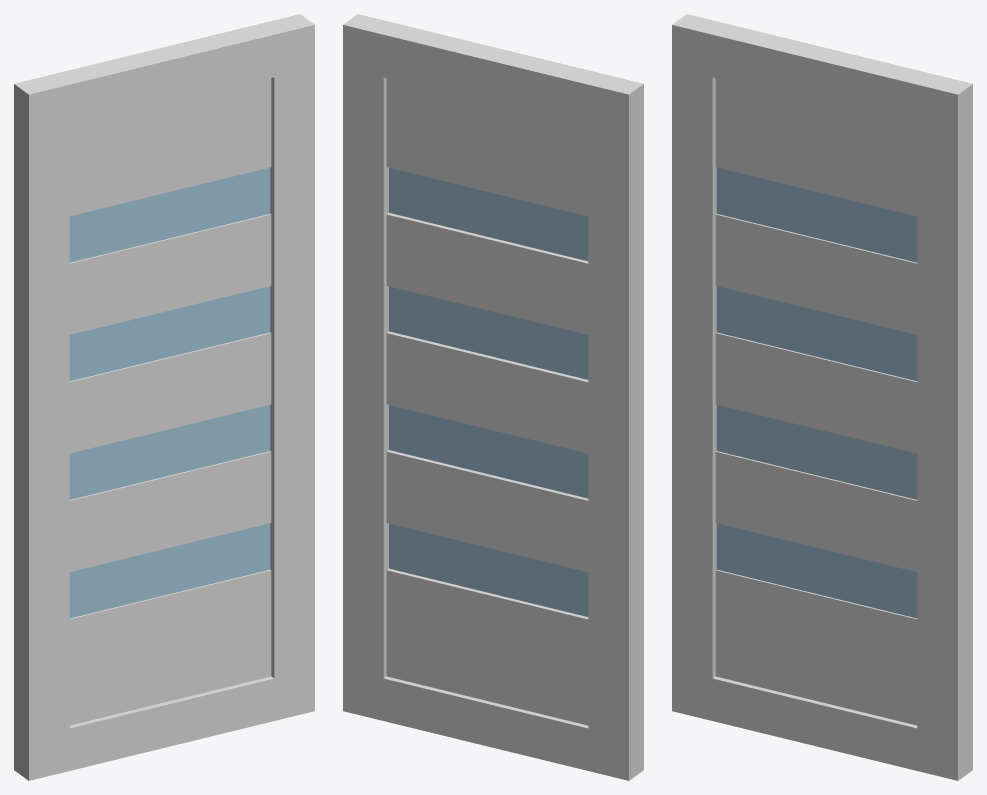
The model's file is Door5_C1.fbx.
3 renders of one model, left to right at view 1: azimuth 30°, elevation 25°; view 2: azimuth 150°, elevation 25°; view 3: azimuth 330°, elevation 25°, orthographic.
Visible parts, largest first — view 1: Door5_C1; view 2: Door5_C1; view 3: Door5_C1.
Part boxes in pixels (bbox=[...]): Door5_C1: bbox=[14, 14, 314, 780]; Door5_C1: bbox=[343, 14, 643, 780]; Door5_C1: bbox=[672, 14, 972, 780].
Size of the model in its own units: 0.89 by 2.04 by 0.08.
